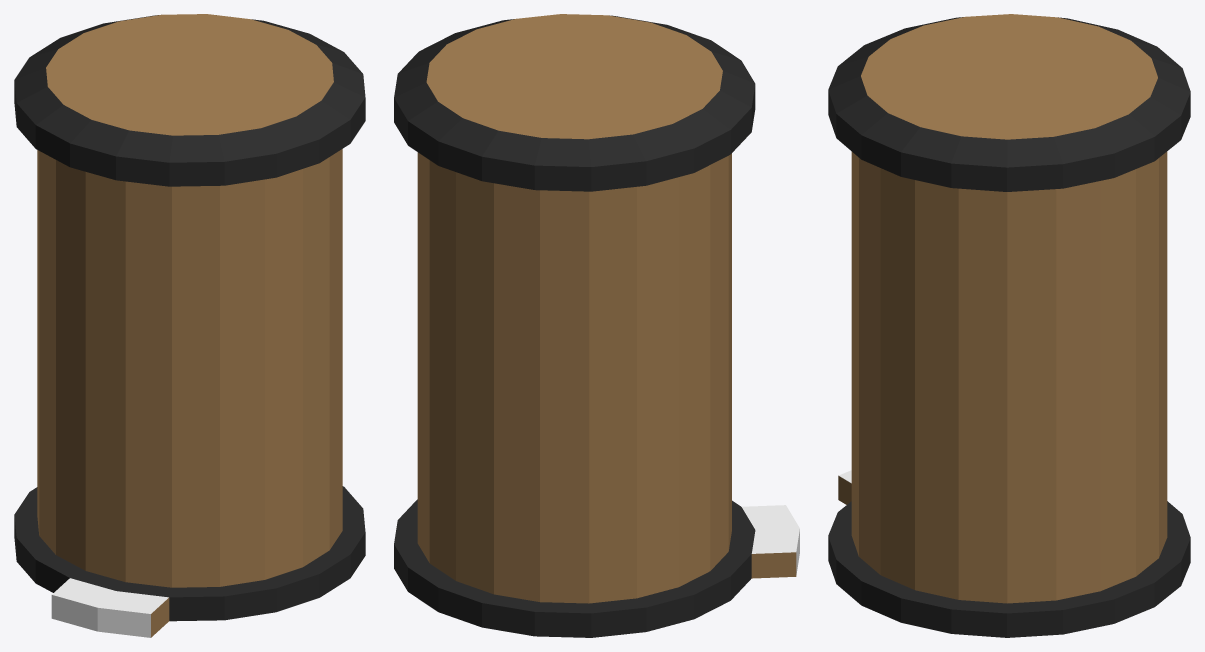
Rendered from Recycle Bin_2.fbx.
3 renders of one model, left to right at view 1: azimuth 30°, elevation 25°; view 2: azimuth 150°, elevation 25°; view 3: azimuth 270°, elevation 25°, orthographic. The views are drawn at different scales.
Visible parts, largest first — view 1: Recycle Bin_2; view 2: Recycle Bin_2; view 3: Recycle Bin_2.
Part boxes in pixels (x1,y1,x2,y2): Recycle Bin_2: [14, 14, 365, 637]; Recycle Bin_2: [394, 14, 799, 637]; Recycle Bin_2: [828, 14, 1190, 637].
Size of the model in its own units: 0.3077 by 0.4207 by 0.2853.
